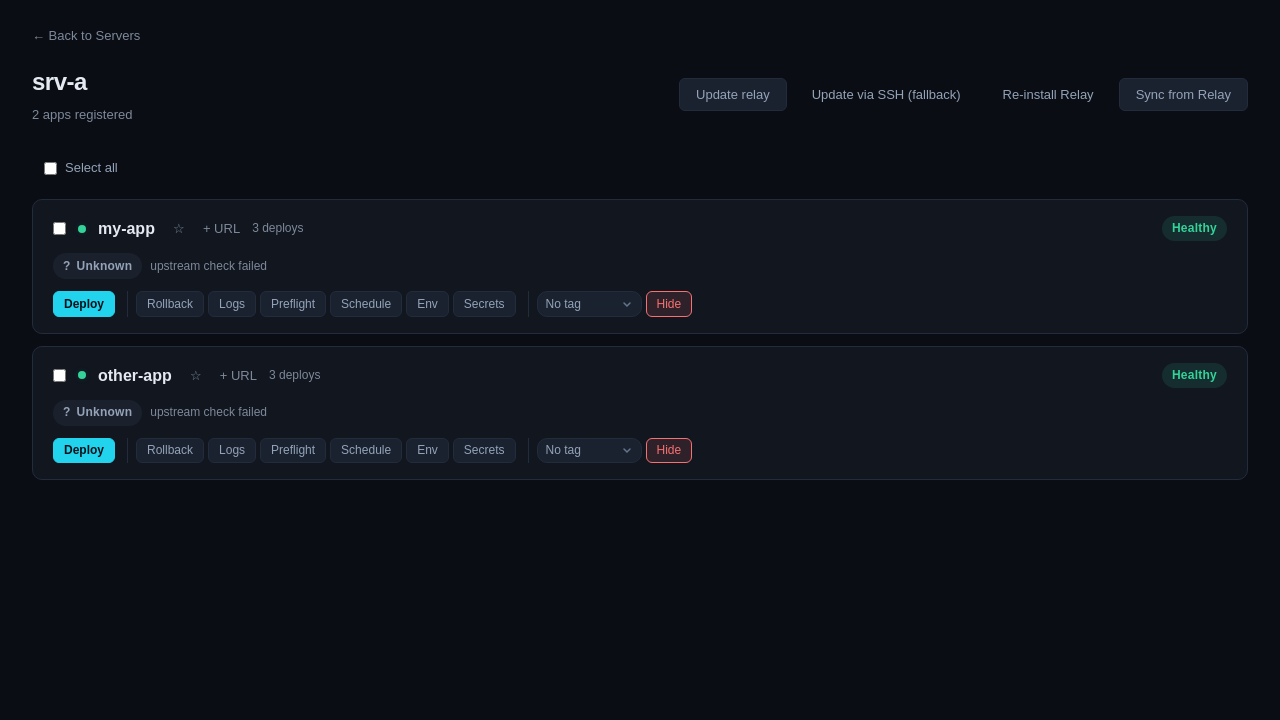
Test case: ServerDetailPage - bulk result polling › stops polling after BULK_MAX_POLLS and says it stopped waiting
This screenshot has width=1280, height=720.
Expected: the text "other-app" is shown, [98, 362, 172, 388]
Click the checkbox named "Select my-app": (60, 229) [53, 222, 66, 235]
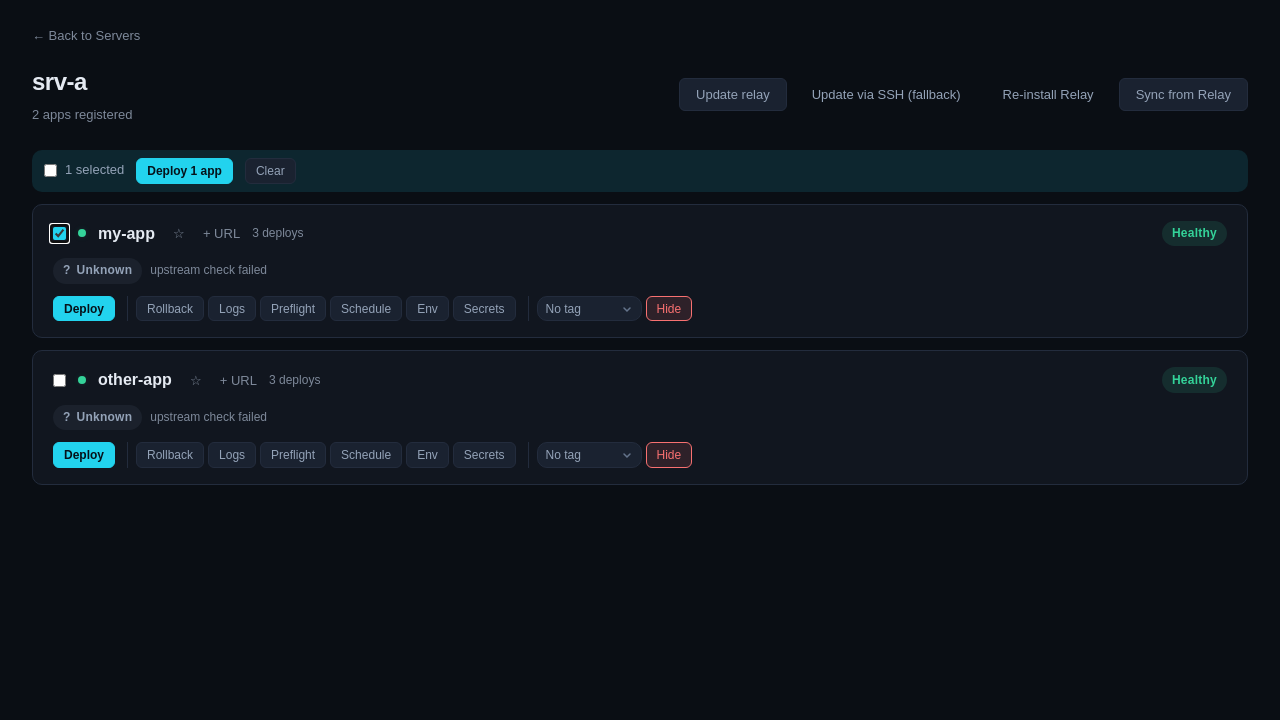
Click the checkbox named "Select other-app": (60, 380) [53, 374, 66, 387]
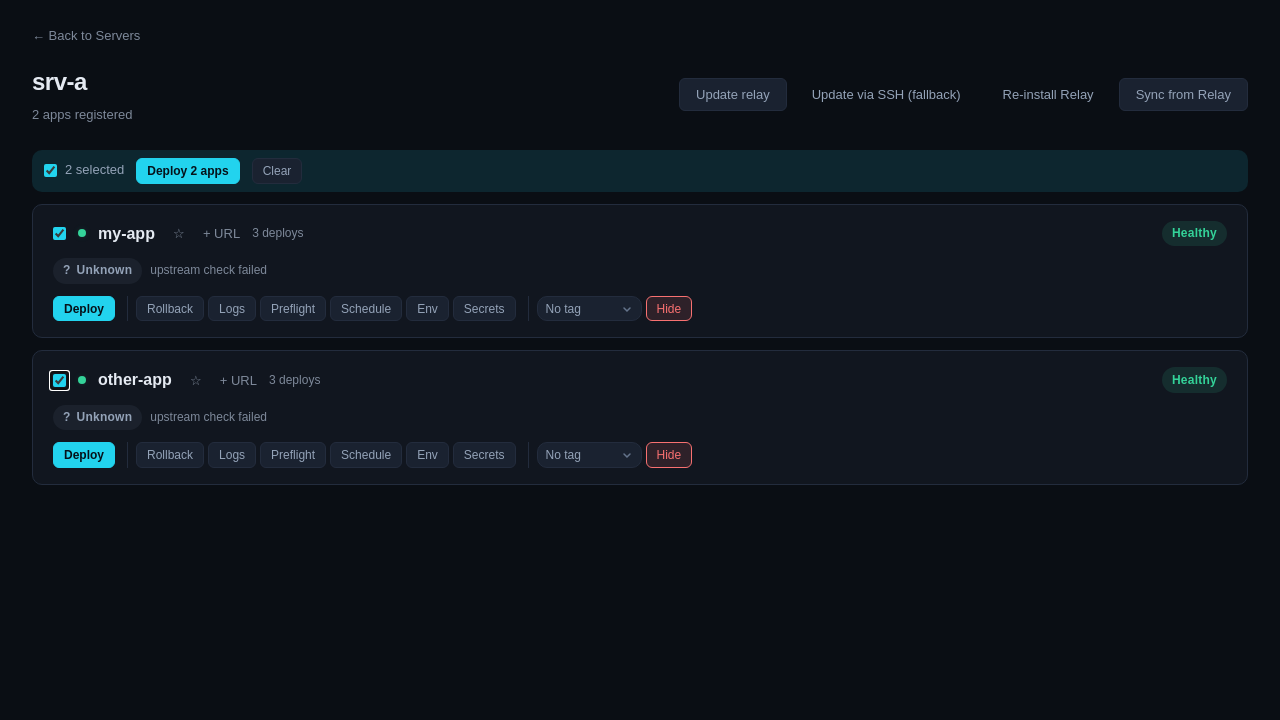
Click the button "Deploy 2 apps": (188, 171) [136, 158, 240, 184]
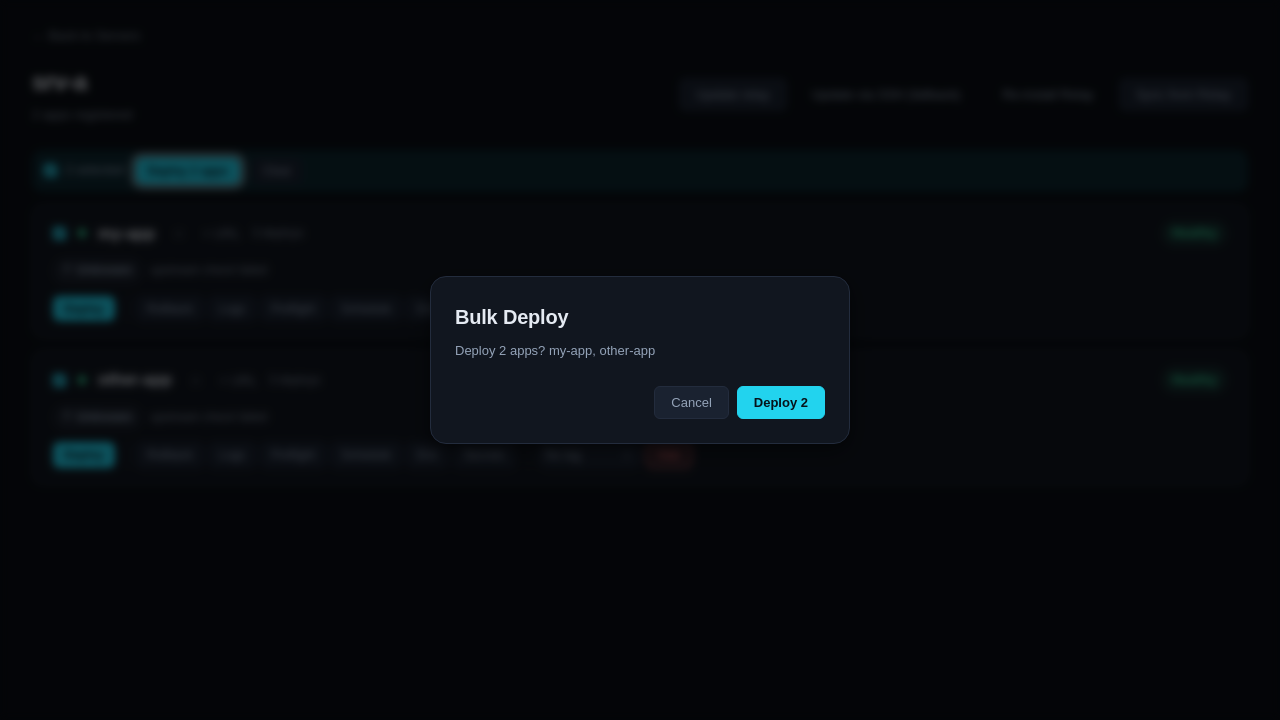
Click the button "Deploy 2": (781, 402) [737, 386, 825, 419]
Wait 615000 ms
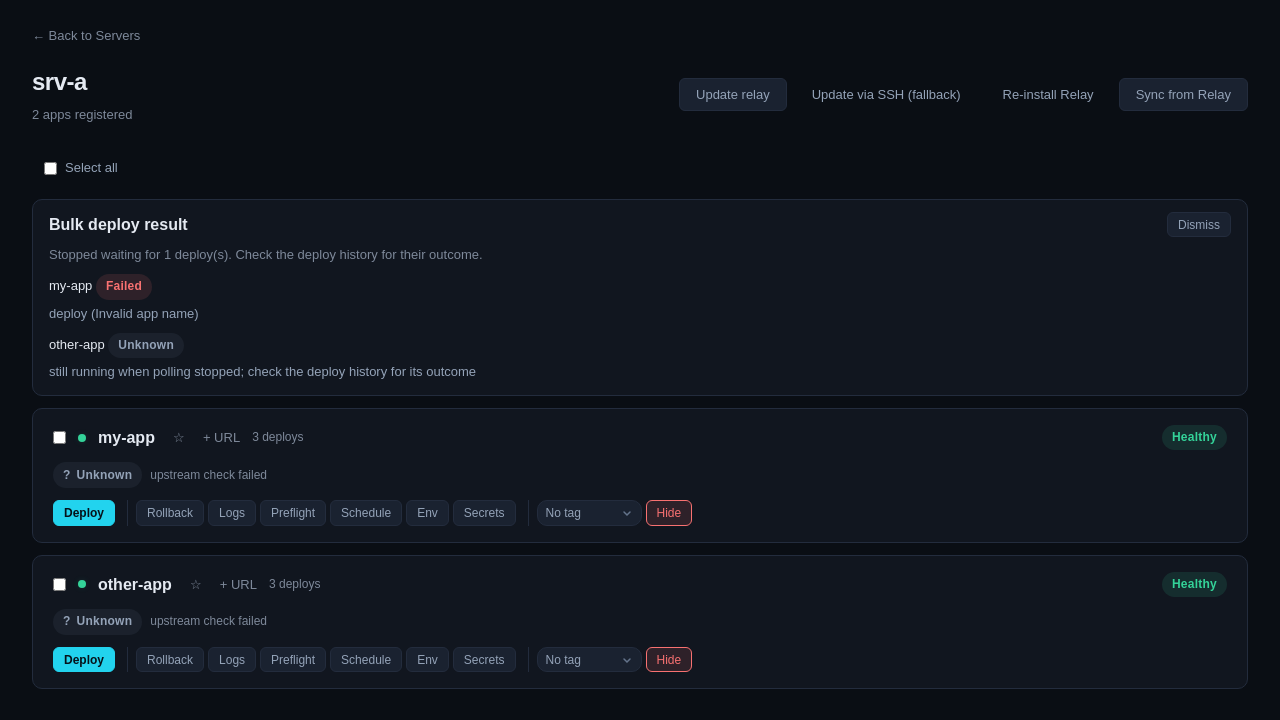
Expected: the element "Bulk deploy result" is shown, [32, 199, 1248, 396]
Expected: the message shows "Stopped waiting for 1 deploy(s)", [49, 247, 483, 262]
